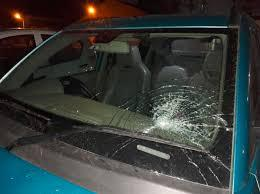Front-Windscreen-Damage: (3, 30, 242, 193)
